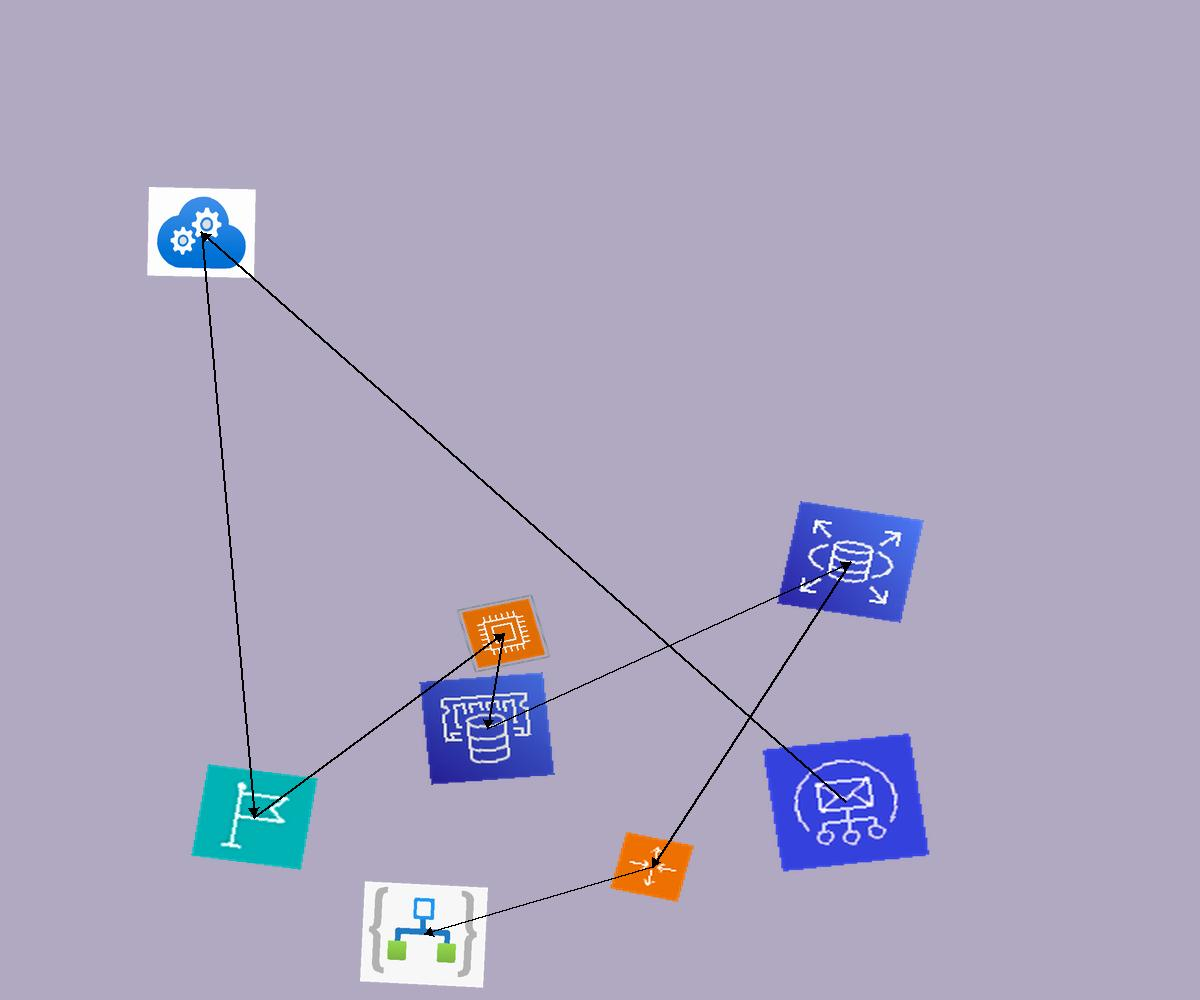AWS-Category_Compute: (456, 594, 551, 673)
AWS-ElastiCache: (419, 672, 555, 785)
AWS-RDS: (777, 501, 924, 623)
AWS-Region: (191, 764, 318, 870)
AWS-Scaling-group: (609, 831, 695, 903)
AWS-Simple-Email-Service: (761, 732, 931, 873)
Azure_cloud_services: (147, 187, 256, 278)
Azure_integration-204-Logic-Apps: (360, 881, 488, 988)
